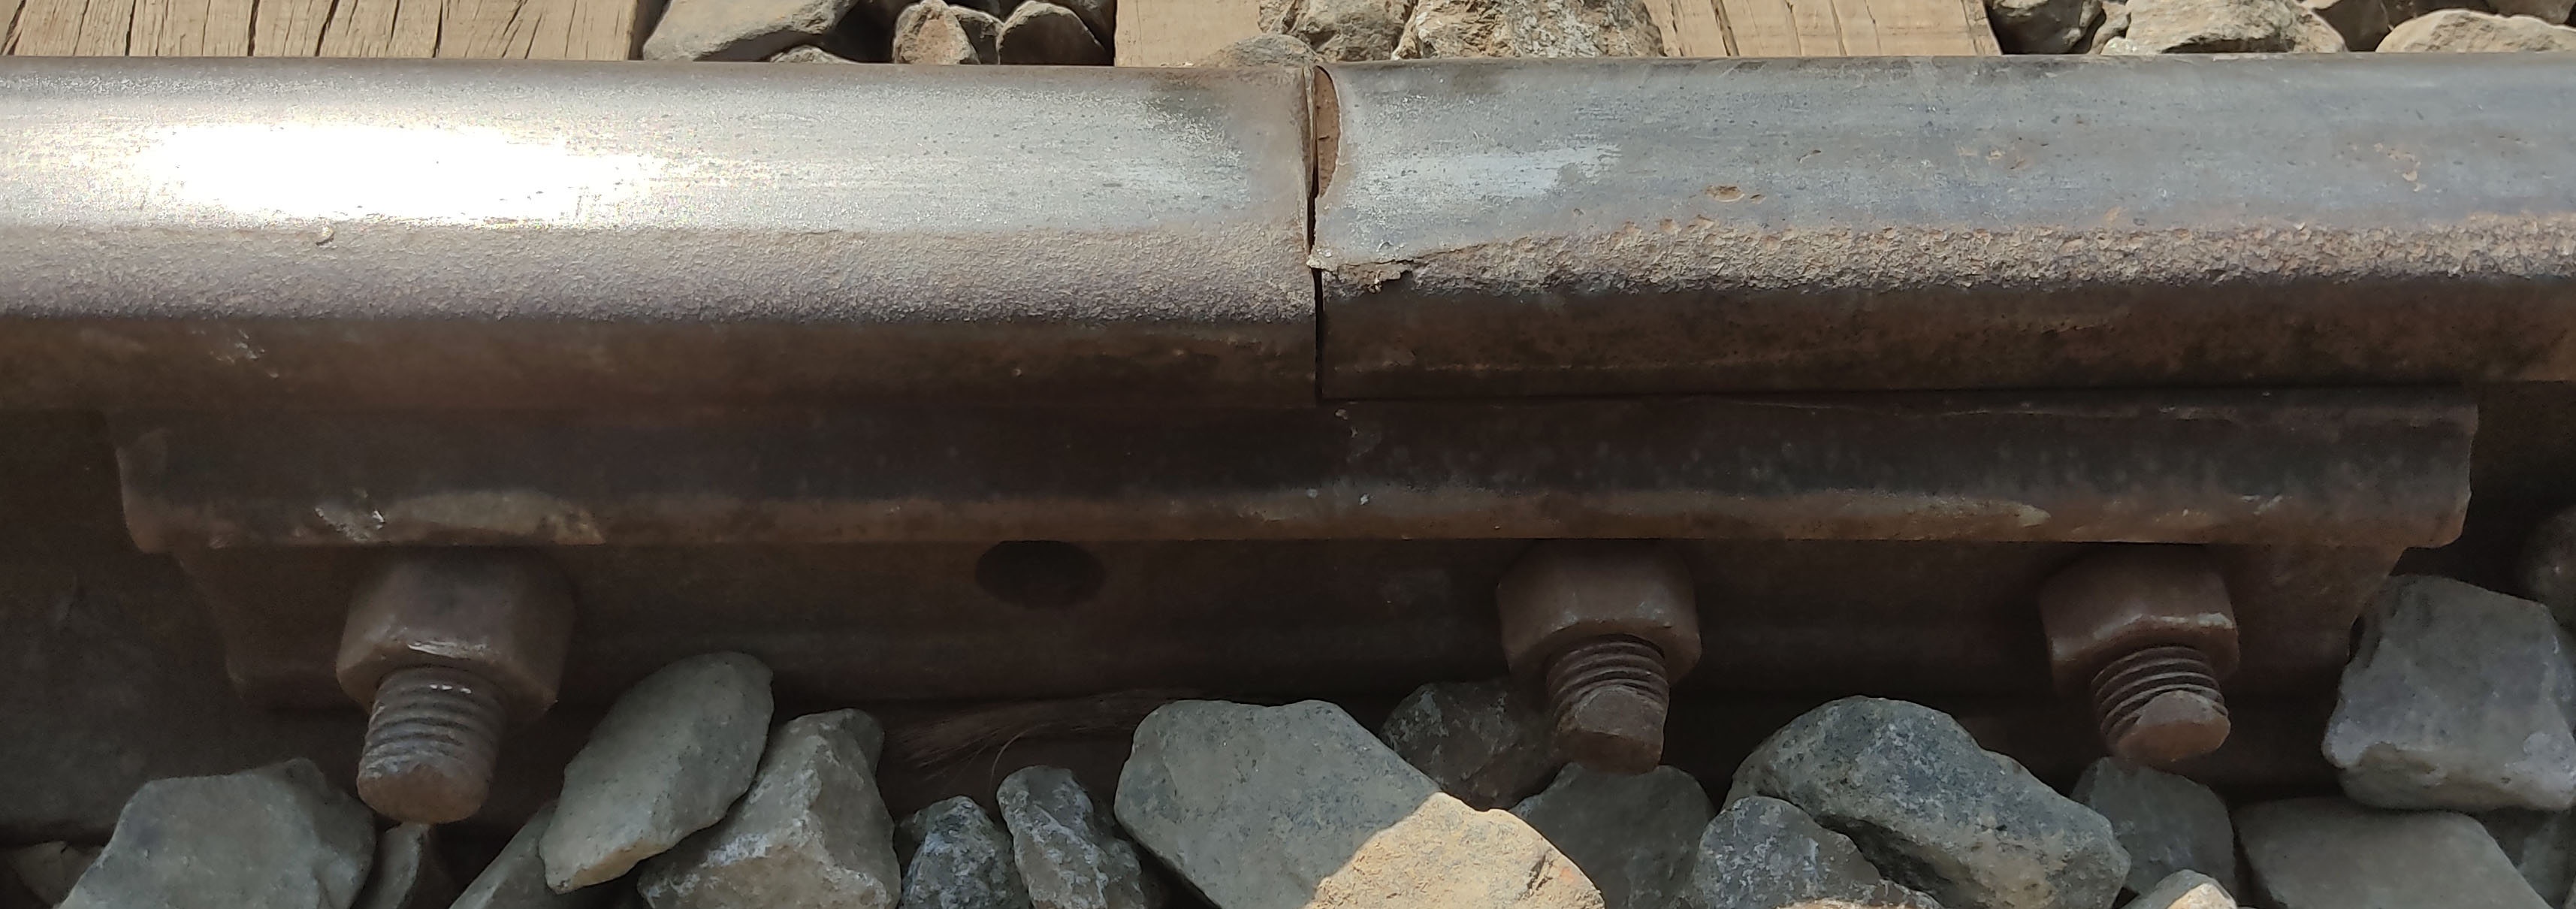error2: (1258, 23, 1414, 441)
